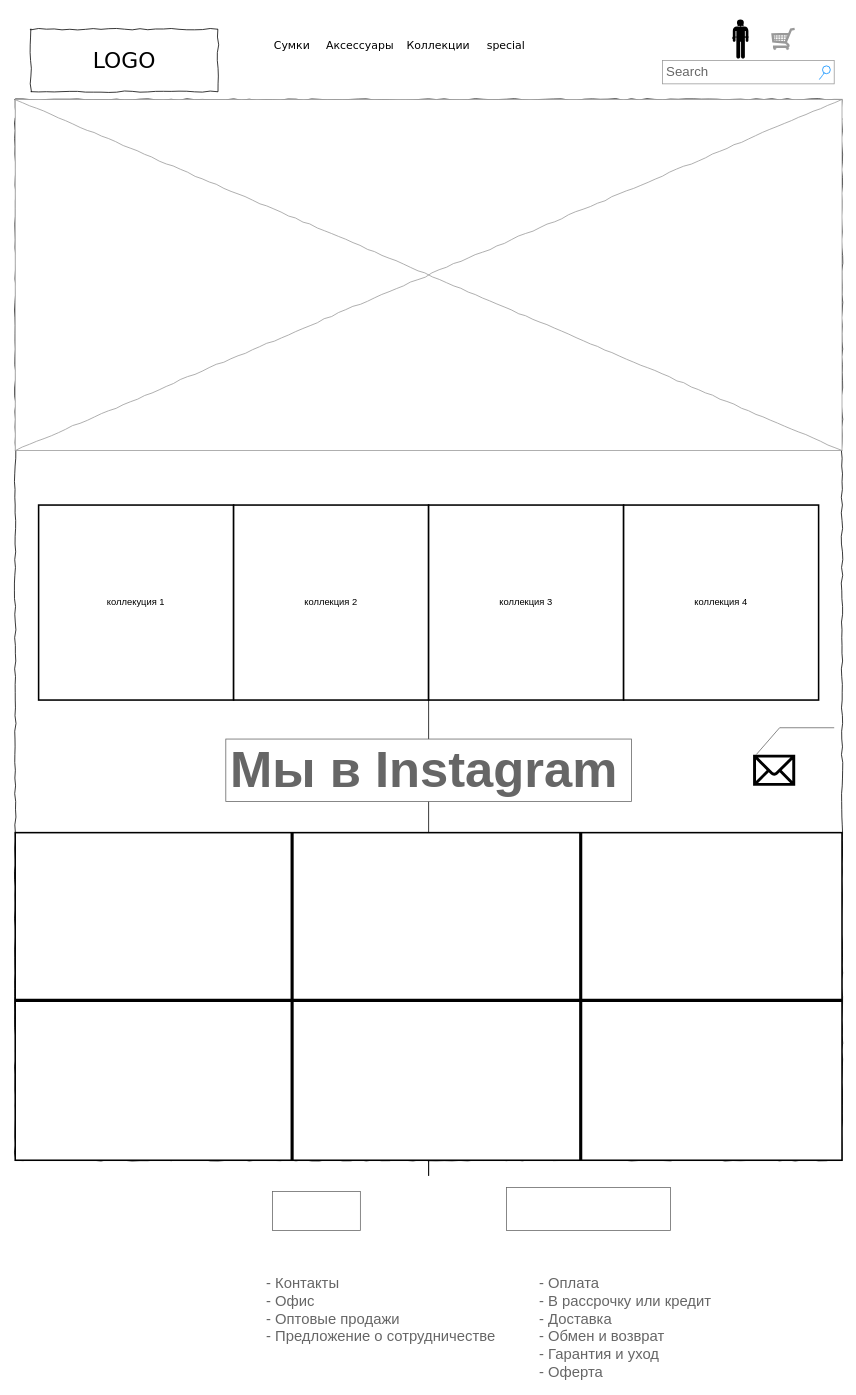
This 856x1395 diagram has some shape labels left out. Here are the shapes that lost their labels. From the top down, the centre of each, then its label:
At [794,731]: "Виджет".
At [316,1210]: "О нас".
At [588,1208]: "Покупателю".
